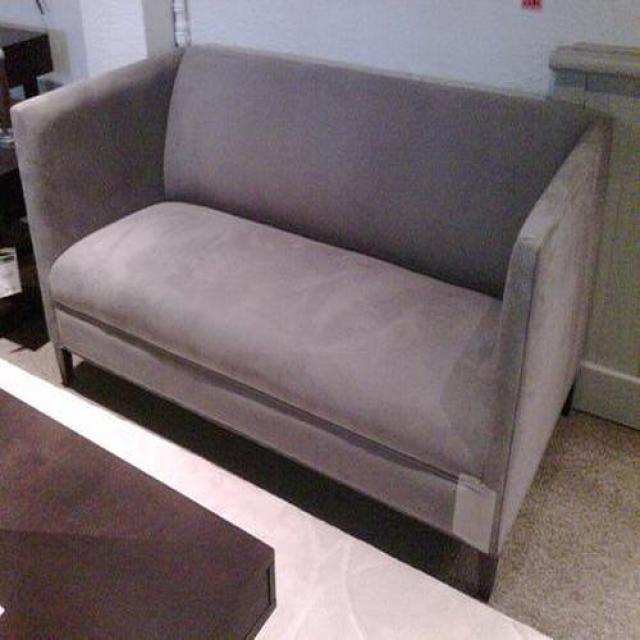sofa: (14, 47, 609, 600)
